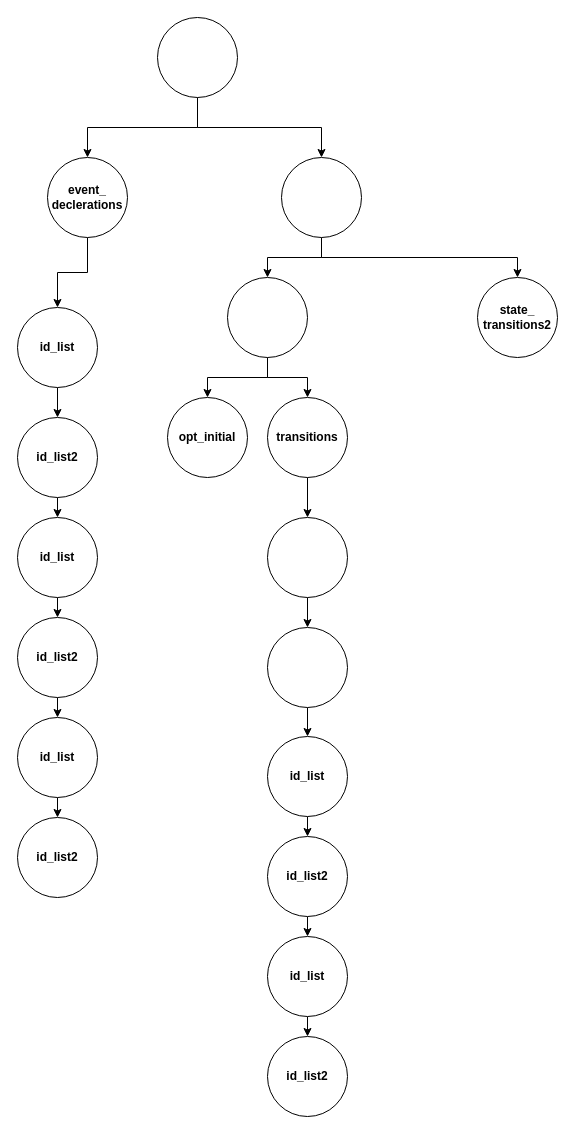
Image size: 575x1134. Some labels were removed from this diagram. The box of each missing label's shape, as (x1, y1, x2, y2) in pixels:
FSM: (156, 16, 238, 98)
opt_id_list: (266, 626, 348, 708)
state transition: (226, 276, 308, 358)
state_ transitions: (280, 156, 362, 238)
transition: (266, 516, 348, 598)
